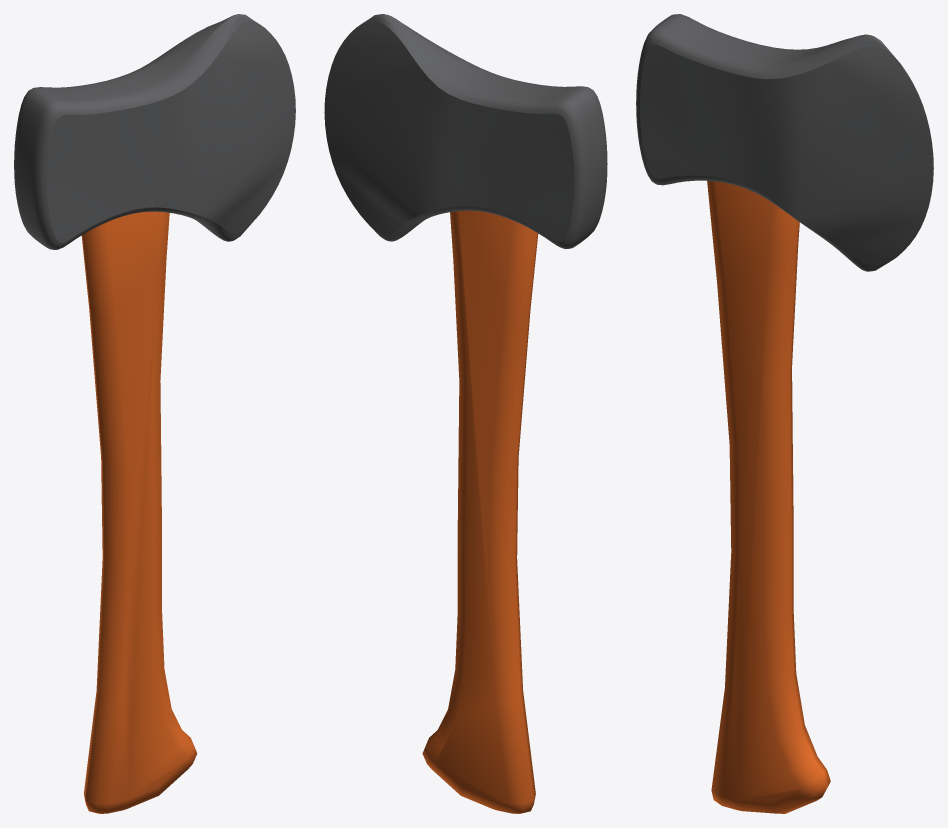
File: Axe.fbx
The picture shows the model from 3 angles, left to right: view 1: azimuth 30°, elevation 25°; view 2: azimuth 150°, elevation 25°; view 3: azimuth 330°, elevation 25°; orthographic projection. The views are drawn at different scales.
Parts seen in each view (by area): view 1: Head, Handle; view 2: Head, Handle; view 3: Head, Handle.
Boxes of the visible parts, box(x1,y1,x2,y2) form: Head: box(14, 14, 295, 249); Handle: box(81, 211, 197, 813); Head: box(324, 14, 607, 249); Handle: box(422, 210, 538, 813); Head: box(636, 14, 933, 271); Handle: box(707, 181, 830, 813).
Size of the model in its own units: 87.57 by 236 by 19.36.
